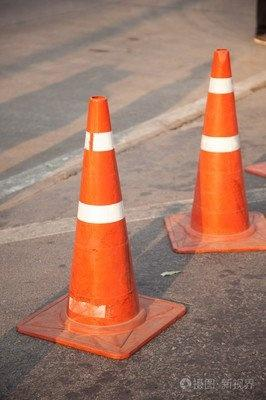cone_barrel: (56, 93, 145, 338), (180, 48, 255, 249)
